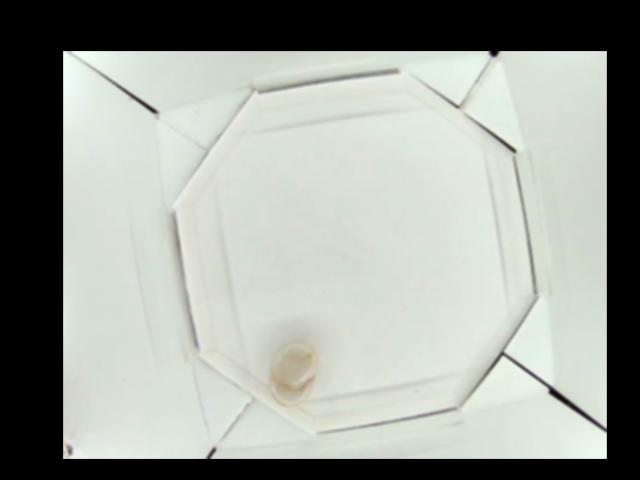Pebble: (268, 345, 314, 406)
